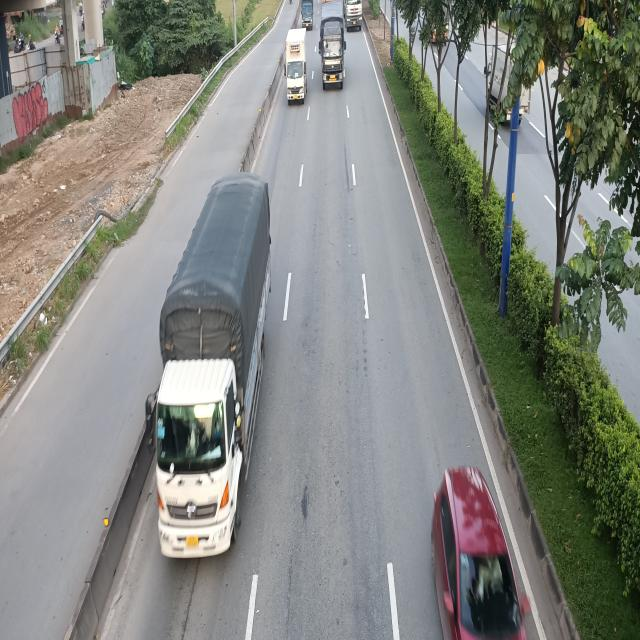car: (431, 465, 530, 640)
container: (346, 1, 364, 31)
truck: (140, 182, 266, 568), (319, 2, 346, 91), (282, 29, 308, 104), (300, 0, 314, 30)
